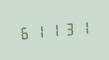one: (32, 21, 45, 40), (46, 20, 59, 39), (74, 18, 87, 37)
six: (18, 23, 31, 41)
three: (60, 19, 73, 38)
